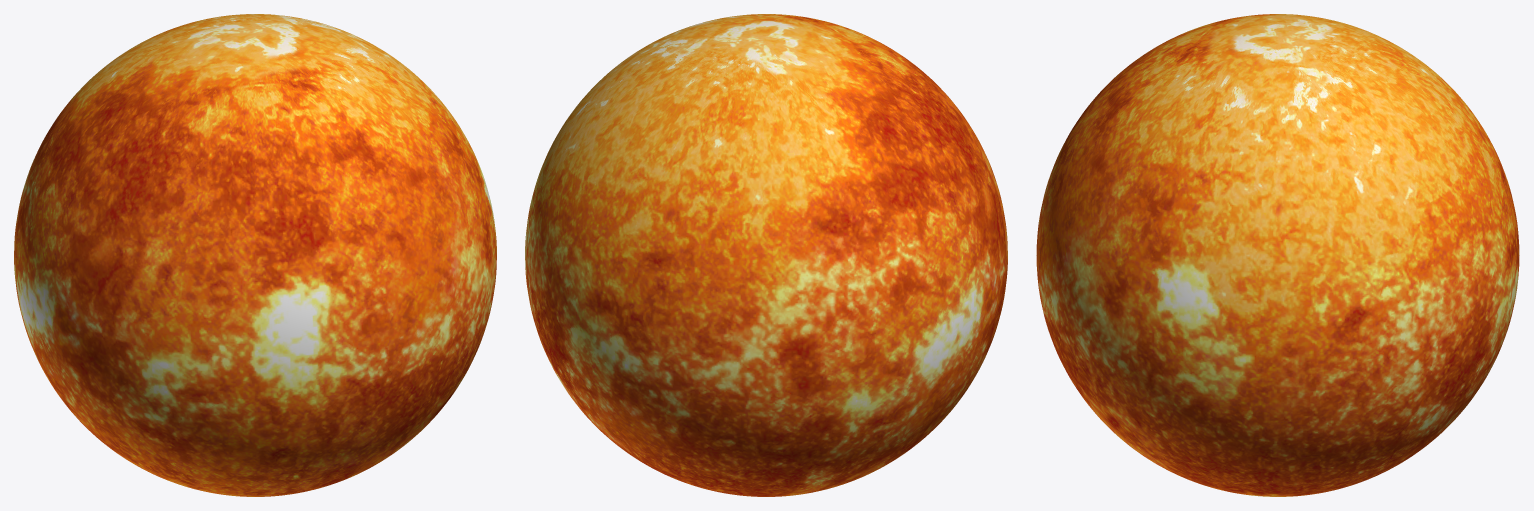
File: sun.glb
The picture shows the model from 3 angles, left to right: view 1: azimuth 30°, elevation 25°; view 2: azimuth 150°, elevation 25°; view 3: azimuth 270°, elevation 25°; orthographic projection.
Visible parts, largest first — view 1: node_id5; view 2: node_id5; view 3: node_id5.
Boxes of the visible parts, x1,y1,x2,y2 form: node_id5: (14,14,496,496); node_id5: (525,14,1007,496); node_id5: (1036,14,1519,496).
Size of the model in its own units: 0.512 by 0.512 by 0.512.
Materials: 1 (1 with a texture image).
